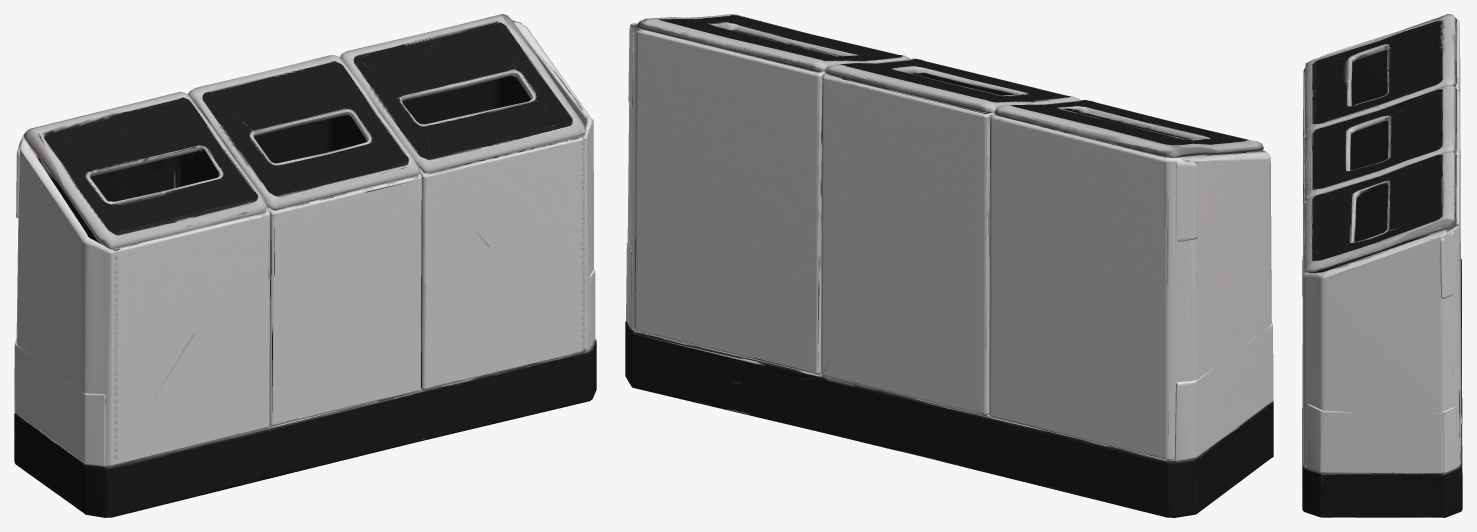
Rendered from meshy-t2.glb.
3 renders of one model, left to right at view 1: azimuth 30°, elevation 25°; view 2: azimuth 150°, elevation 25°; view 3: azimuth 270°, elevation 25°, orthographic. The views are drawn at different scales.
Bounding box in the file's own units: 1 × 0.6133 × 0.3057.
1 material, 1 textured.
